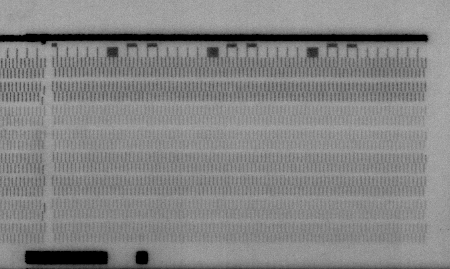Oblique printing: (36, 83, 48, 105), (39, 199, 51, 214)
